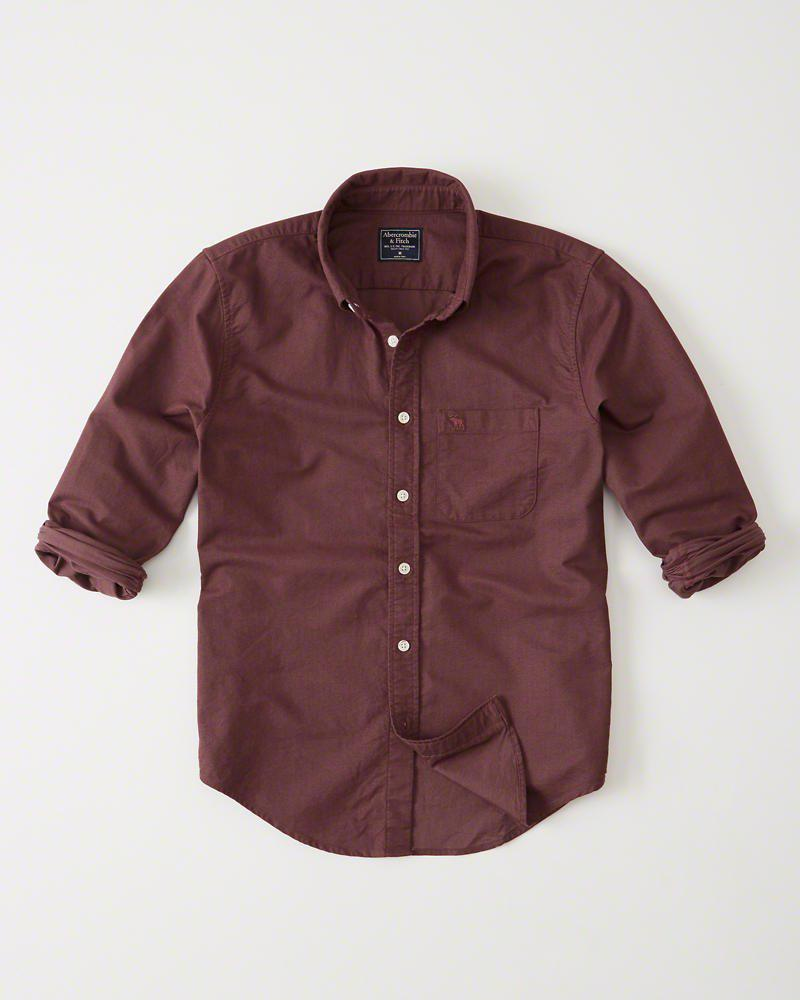teeshirt: (9, 156, 761, 862)
